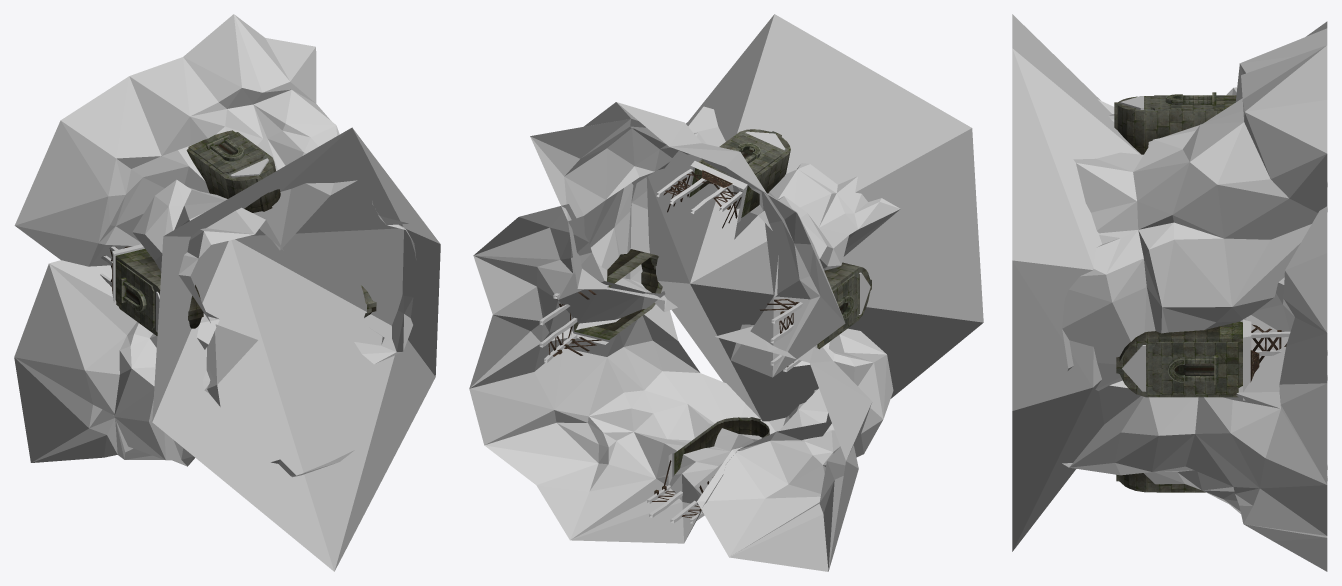
File: zhucheng_yewai_291_junshi_jz_01.obj
3 renders of one model, left to right at view 1: azimuth 30°, elevation 25°; view 2: azimuth 150°, elevation 25°; view 3: azimuth 270°, elevation 25°, orthographic. The views are drawn at different scales.
Parts seen in each view (by area): view 1: zhucheng_yewai_291_junshi_jz_01; view 2: zhucheng_yewai_291_junshi_jz_01; view 3: zhucheng_yewai_291_junshi_jz_01.
Part boxes in pixels (<box>): zhucheng_yewai_291_junshi_jz_01: <box>14,14,440,571</box>; zhucheng_yewai_291_junshi_jz_01: <box>469,14,983,571</box>; zhucheng_yewai_291_junshi_jz_01: <box>1012,14,1327,571</box>.
Bounding box in the file's own units: 2681 × 3209 × 1741.
